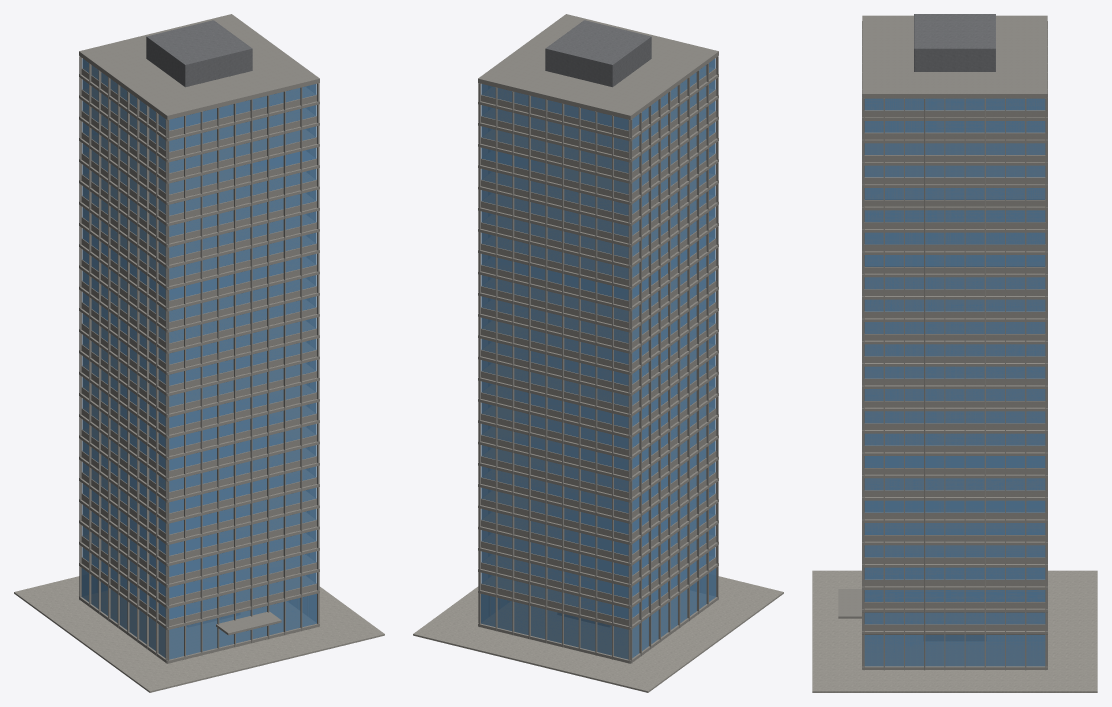
The model's file is a-realistic-concrete-building-91559-realistic.glb.
3 views of the same model, side by side, from view 1: azimuth 30°, elevation 25°; view 2: azimuth 150°, elevation 25°; view 3: azimuth 270°, elevation 25° (orthographic). The views are drawn at different scales.
Parts seen in each view (by area): view 1: building; view 2: building; view 3: building.
Part boxes in pixels (x1=…): building: x1=14, y1=14, x2=384, y2=692; building: x1=413, y1=14, x2=783, y2=692; building: x1=812, y1=14, x2=1097, y2=692.
Size of the model in its own units: 44 by 102 by 44.
4 materials, 3 textured.
